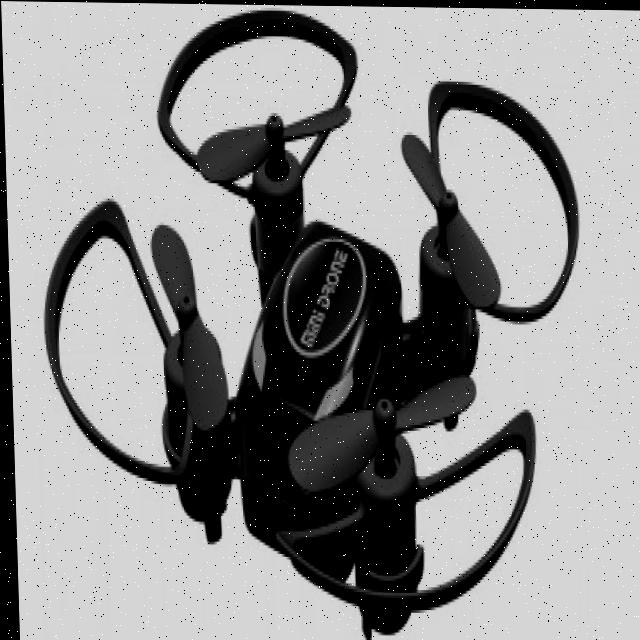drone: (48, 20, 596, 604)
